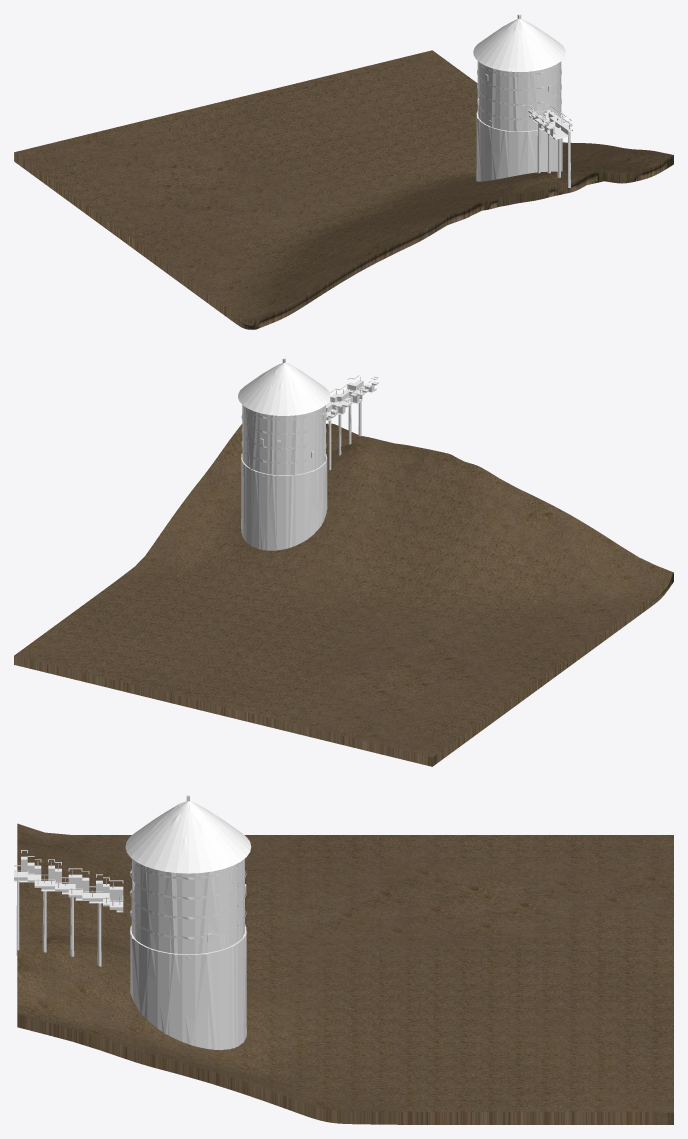
Rendered from chunk_1_1.glb.
3 views of the same model, one above another, from view 1: azimuth 30°, elevation 25°; view 2: azimuth 150°, elevation 25°; view 3: azimuth 270°, elevation 25° (orthographic). The views are drawn at different scales.
Parts seen in each view (by area): view 1: Terrain_L2, Terrain_L0, Buildings_L0, Terrain_L1, Buildings_L1; view 2: Terrain_L2, Terrain_L0, Buildings_L0, Terrain_L1, Buildings_L1; view 3: Terrain_L2, Buildings_L0, Terrain_L0, Buildings_L1, Terrain_L1.
Part boxes in pixels (box(x1,y1,x2,y2)): Terrain_L2: box(14, 50, 673, 328); Terrain_L0: box(14, 143, 673, 329); Buildings_L0: box(474, 14, 572, 187); Terrain_L1: box(14, 143, 673, 329); Buildings_L1: box(473, 19, 572, 187); Terrain_L2: box(14, 428, 673, 765); Terrain_L0: box(14, 423, 673, 766); Buildings_L0: box(239, 358, 378, 550); Terrain_L1: box(14, 424, 673, 766); Buildings_L1: box(238, 363, 374, 550); Terrain_L2: box(17, 823, 673, 1124); Buildings_L0: box(14, 795, 251, 1049); Terrain_L0: box(17, 840, 673, 1124); Buildings_L1: box(14, 801, 250, 1049); Terrain_L1: box(17, 825, 673, 1124).
Size of the model in its own units: 96 by 43.32 by 96.5.
4 materials, 1 textured.
